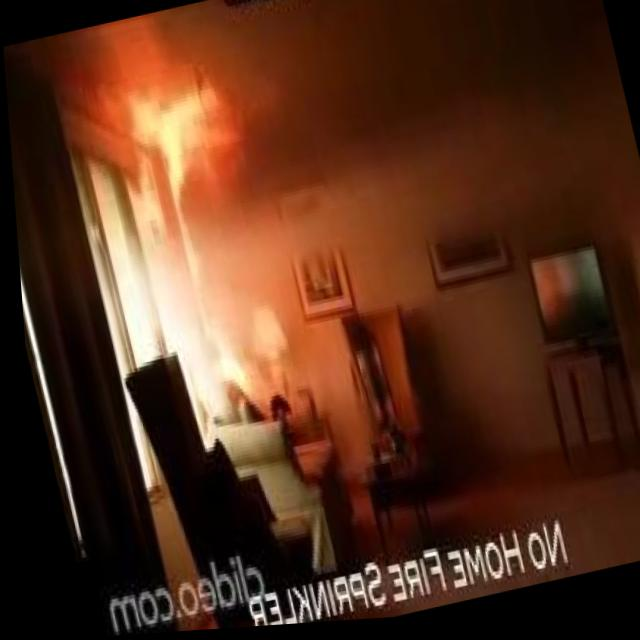fire: (152, 91, 252, 235), (178, 226, 243, 390), (119, 158, 168, 244), (124, 88, 166, 151)
